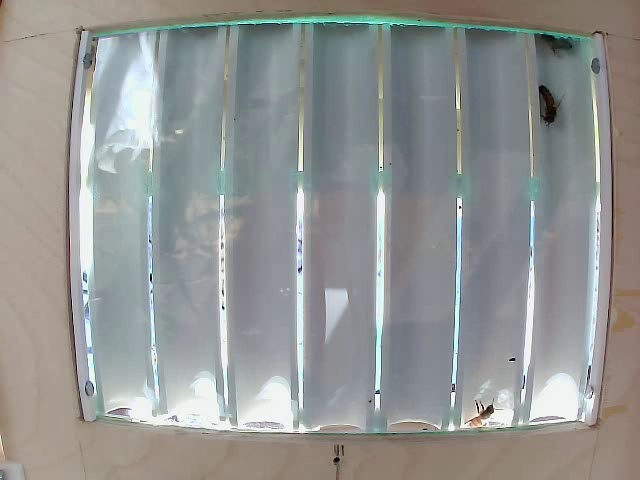bee: (538, 78, 562, 130)
